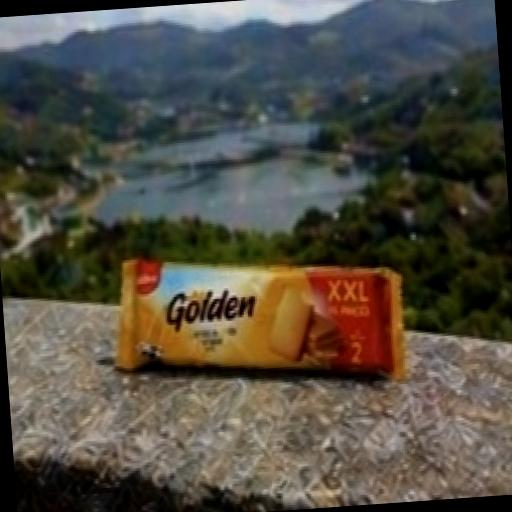golden: (95, 172, 448, 425)
